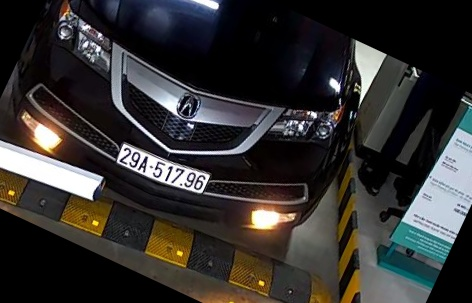plate: (114, 135, 211, 198)
